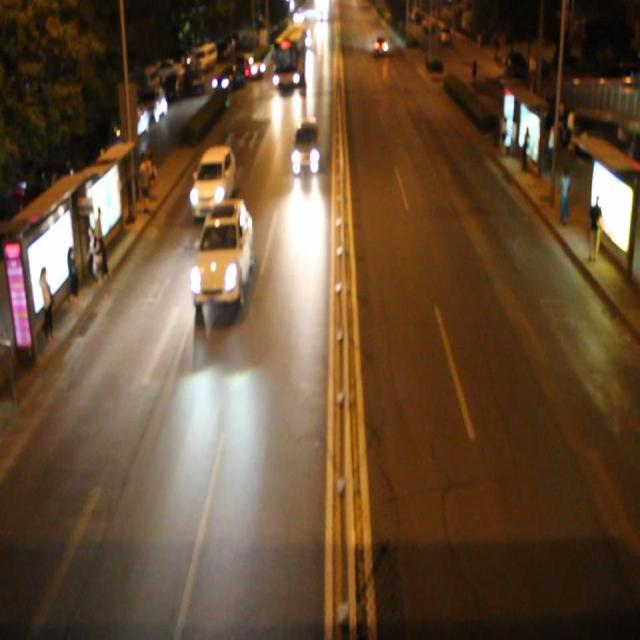car: (192, 200, 254, 308), (190, 144, 236, 220)
truck: (290, 116, 320, 176)
van: (273, 22, 306, 88)
